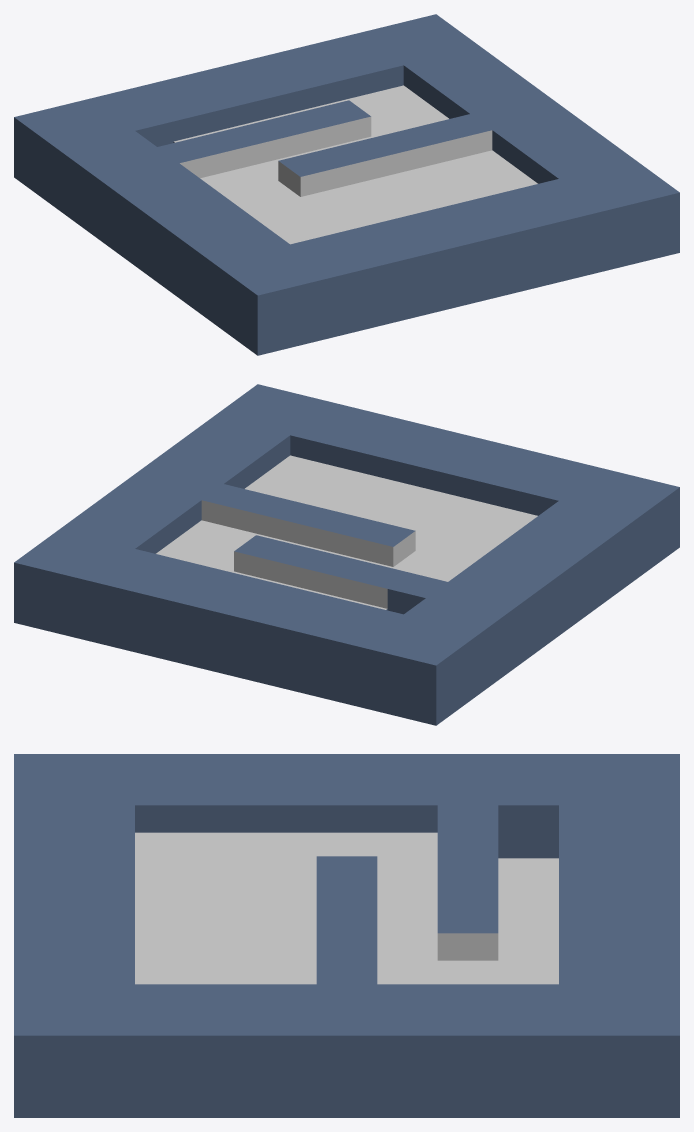
The model's file is 004_platform.fbx.
3 renders of one model, top to bottom at view 1: azimuth 30°, elevation 25°; view 2: azimuth 150°, elevation 25°; view 3: azimuth 270°, elevation 25°, orthographic. The views are drawn at different scales.
Parts seen in each view (by area): view 1: Plane; view 2: Plane; view 3: Plane.
Part boxes in pixels (x1,y1,x2,y2): Plane: (14,14,679,355); Plane: (14,384,679,725); Plane: (14,754,679,1117).
Bounding box in the file's own units: 1100 × 150 × 1100.
